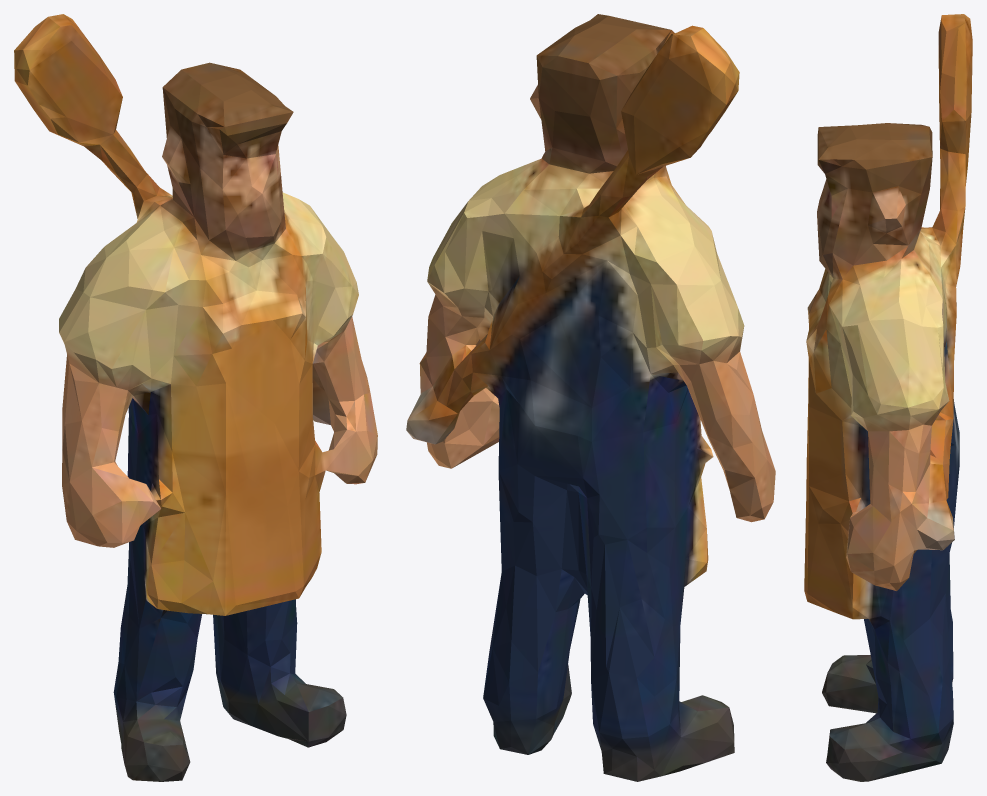
Rendered from habitant-loin.glb.
The picture shows the model from 3 angles, left to right: view 1: azimuth 30°, elevation 25°; view 2: azimuth 150°, elevation 25°; view 3: azimuth 270°, elevation 25°; orthographic projection. The views are drawn at different scales.
Parts seen in each view (by area): view 1: habitant; view 2: habitant; view 3: habitant.
Boxes of the visible parts, x1,y1,x2,y2 form: habitant: (14,14,377,781); habitant: (406,14,775,781); habitant: (804,14,972,781).
Bounding box in the file's own units: 0.4717 × 1.01 × 0.2312.
1 material, 1 textured.
